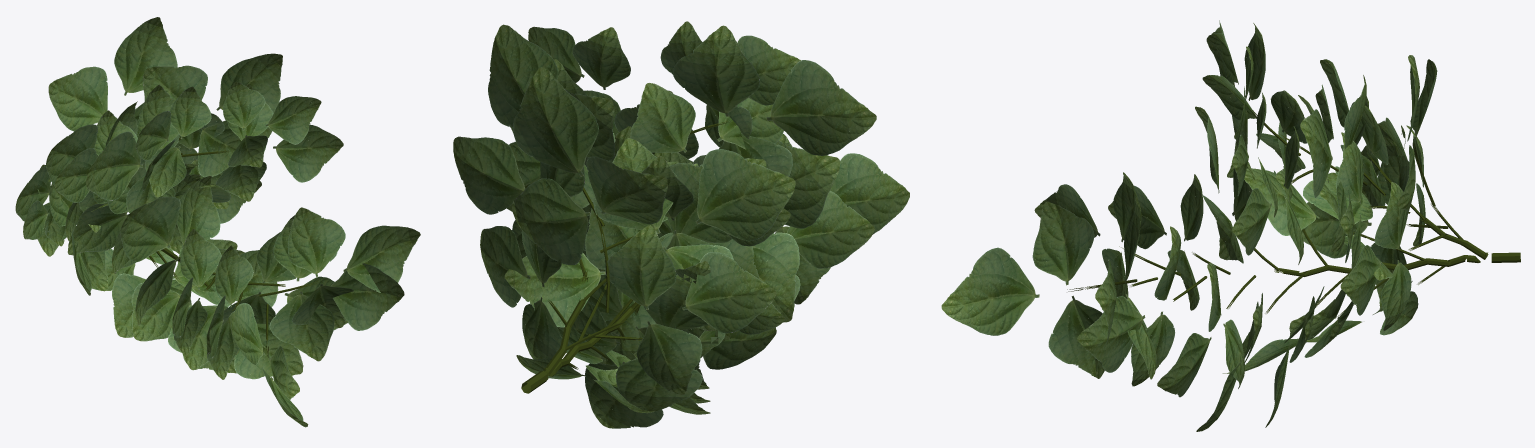
File: soybean_40d.obj
3 renders of one model, left to right at view 1: azimuth 30°, elevation 25°; view 2: azimuth 150°, elevation 25°; view 3: azimuth 270°, elevation 25°, orthographic. The views are drawn at different scales.
Visible parts, largest first — view 1: leaf, petiole; view 2: leaf, petiole, shoot; view 3: leaf, petiole, shoot.
Boxes of the visible parts, x1=… form: leaf: x1=15, y1=17, x2=420, y2=427; petiole: x1=97, y1=136, x2=319, y2=357; leaf: x1=453, y1=21, x2=909, y2=428; petiole: x1=548, y1=120, x2=730, y2=369; shoot: x1=521, y1=270, x2=640, y2=393; leaf: x1=941, y1=20, x2=1437, y2=431; petiole: x1=1067, y1=105, x2=1463, y2=318; shoot: x1=1274, y1=212, x2=1520, y2=276.
Size of the model in its own units: 0.5294 by 0.5633 by 0.799.
2 materials, 1 textured.
